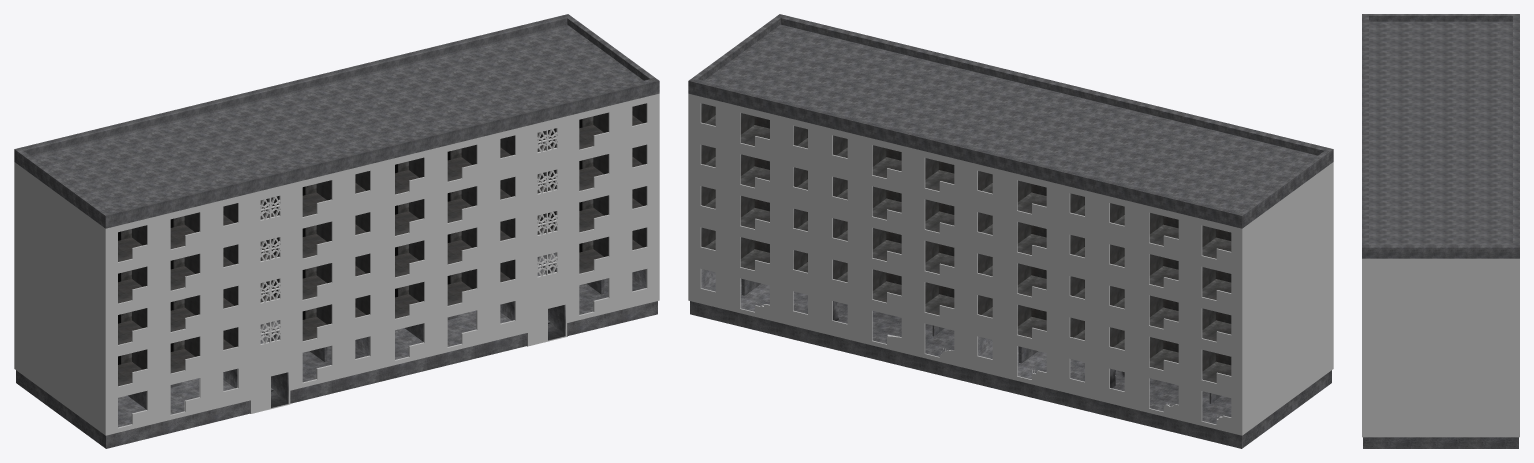
The model's file is house_1.fbx.
The picture shows the model from 3 angles, left to right: view 1: azimuth 30°, elevation 25°; view 2: azimuth 150°, elevation 25°; view 3: azimuth 270°, elevation 25°; orthographic projection. The views are drawn at different scales.
Visible parts, largest first — view 1: room_simplified.002; view 2: room_simplified.002; view 3: room_simplified.002.
Boxes of the visible parts, x1,y1,x2,y2 form: room_simplified.002: (14, 14, 659, 448); room_simplified.002: (688, 14, 1333, 448); room_simplified.002: (1362, 14, 1519, 448).
Bounding box in the file's own units: 4200 × 1696 × 1200.
